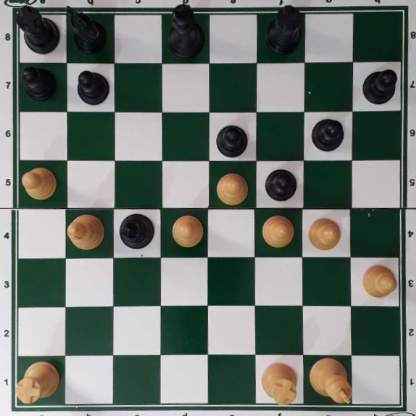black-bishop: (118, 213, 155, 249)
black-king: (166, 3, 206, 59)
black-knight: (65, 6, 106, 51)
black-pawn: (19, 63, 56, 101), (362, 67, 398, 105), (76, 70, 111, 106), (214, 123, 248, 157), (311, 116, 344, 151), (265, 166, 297, 201)
black-rook: (14, 2, 60, 55), (264, 4, 303, 55)
white-bishop: (67, 213, 104, 249)
white-king: (308, 356, 353, 405)
white-pawn: (360, 263, 397, 299), (307, 215, 341, 251), (213, 171, 249, 204), (21, 166, 57, 199), (261, 213, 294, 247), (170, 214, 203, 246)
white-rook: (16, 359, 61, 402), (259, 361, 298, 404)
